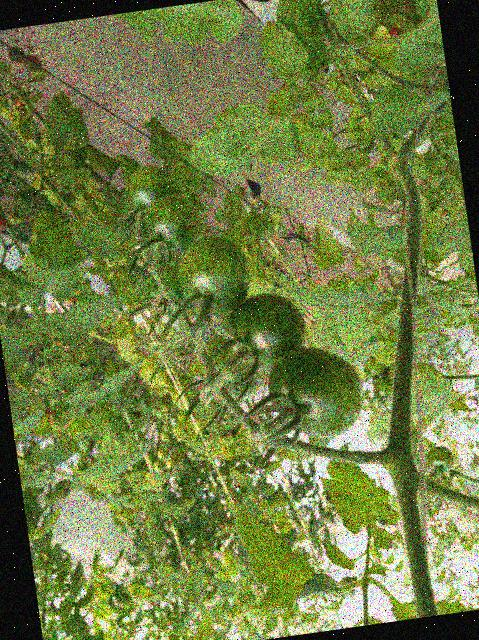l_fully_ripened: (0, 213, 7, 233)
l_green: (263, 339, 369, 446), (217, 288, 310, 377), (172, 231, 255, 318), (198, 328, 270, 405), (140, 189, 206, 262), (121, 161, 188, 224), (141, 263, 190, 317), (425, 443, 455, 474), (371, 377, 393, 402), (361, 357, 384, 379)
